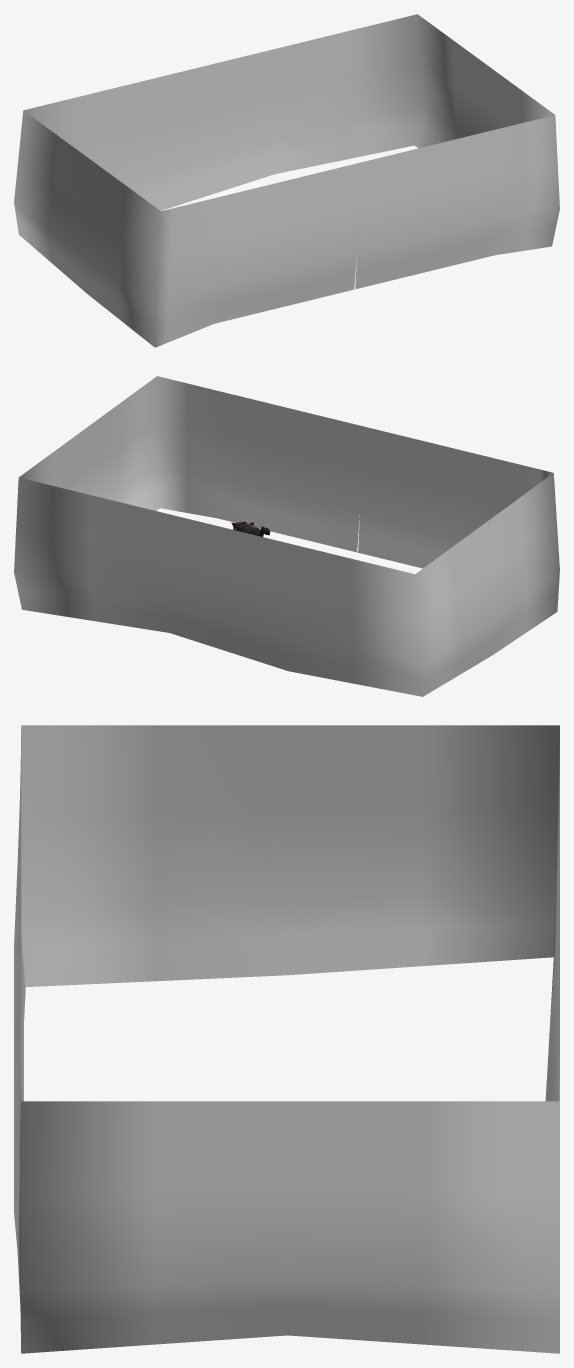
File: RoomDiningDrapes.fbx
3 renders of one model, top to bottom at view 1: azimuth 30°, elevation 25°; view 2: azimuth 150°, elevation 25°; view 3: azimuth 270°, elevation 25°, orthographic. The views are drawn at different scales.
Parts seen in each view (by area): view 1: RoomDiningDrapes; view 2: RoomDiningDrapes; view 3: RoomDiningDrapes.
Boxes of the visible parts, box(x1,y1,x2,y2) form: RoomDiningDrapes: box(14, 14, 559, 347); RoomDiningDrapes: box(14, 376, 559, 696); RoomDiningDrapes: box(14, 725, 559, 1353).
Size of the model in its own units: 12.22 by 3.89 by 7.22.
